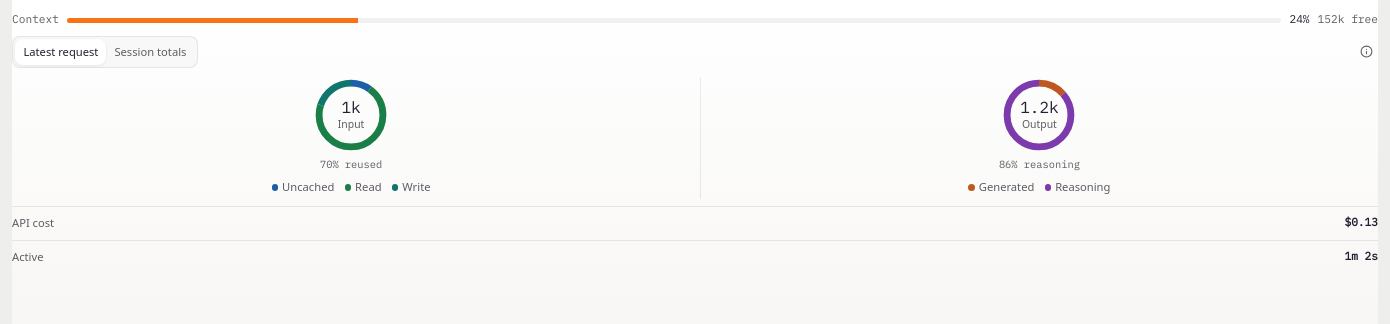
Test: SessionUsageBar › supports focus and tap inspection, persistent selection, and Escape clearing
Focus the button with aria-label "Cache read:" at (363, 187), box [341,175,386,199]
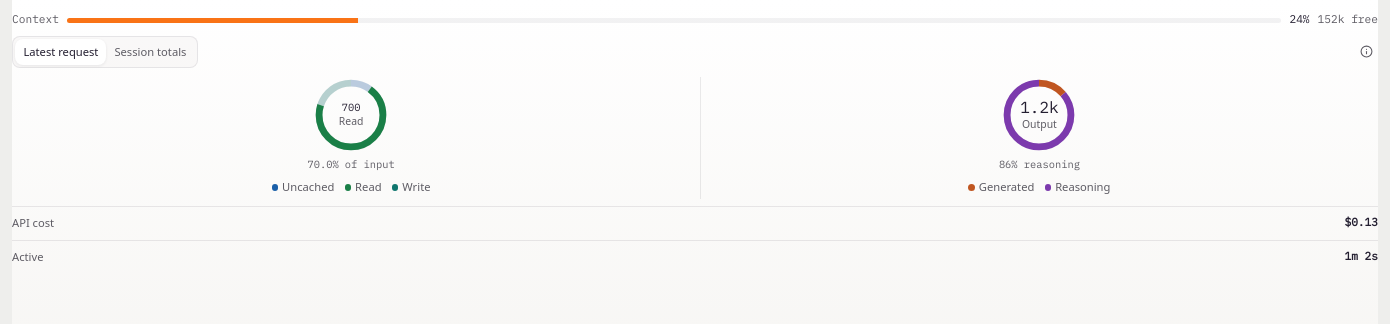
expect the element with class "session-usage-ring-center" shows "700": met, box [342,100,360,114]
Click the button with aria-label "Cache read:" at (363, 187), box [341,175,386,199]
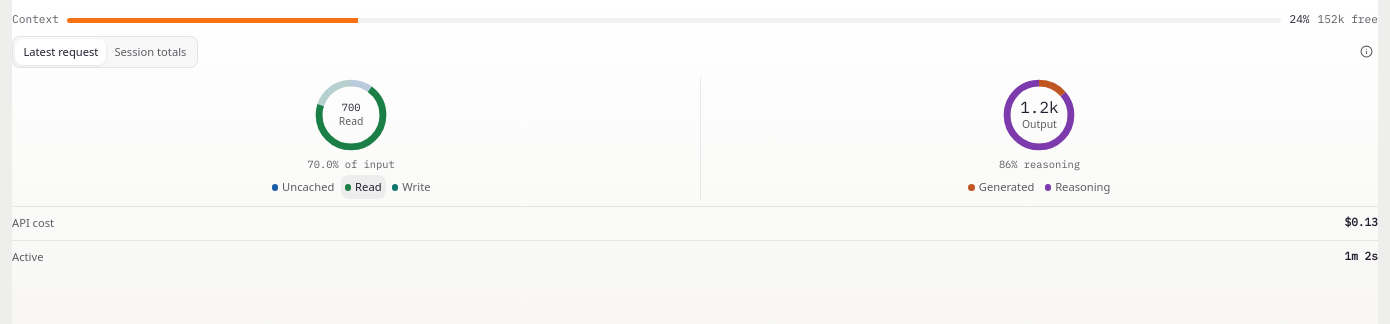
Leave the button with aria-label "Cache read:", box [341,175,386,199]
expect the text "70.0% of input" is shown: met, box [308,156,395,172]
Press Escape in the button with aria-label "Cache read:", box [341,175,386,199]
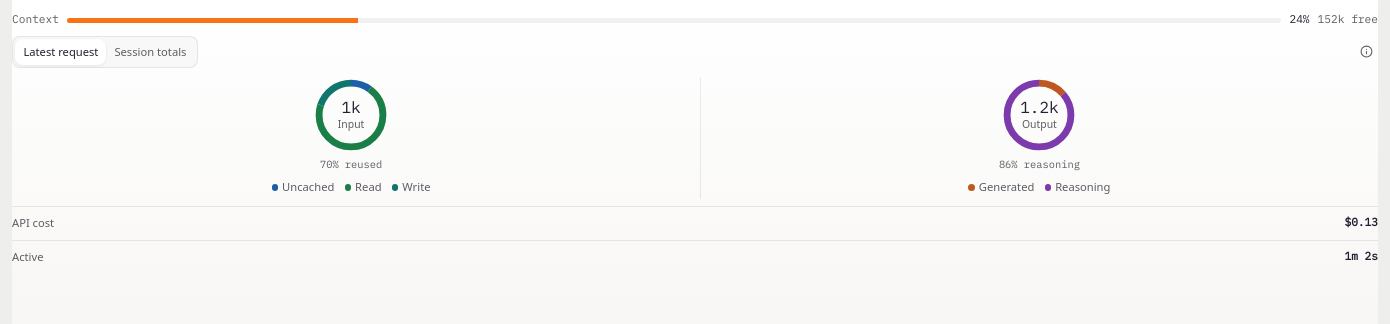
expect the text "70% reused" is shown: met, box [320,156,382,172]
